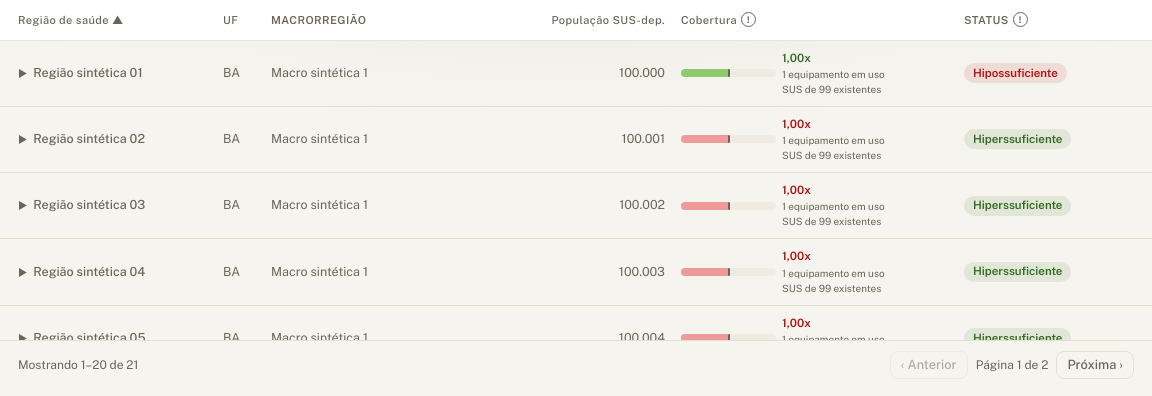
cobertura por região e município com consultas reais › mostra expansão vazio sem perder a região pai
The width and height of the screenshot is (1152, 396).
What coordinates should you click on to do the following:
click the text "Região sintética 01"
I would click on:
 (108, 73)
Its box is [0,40,217,106].
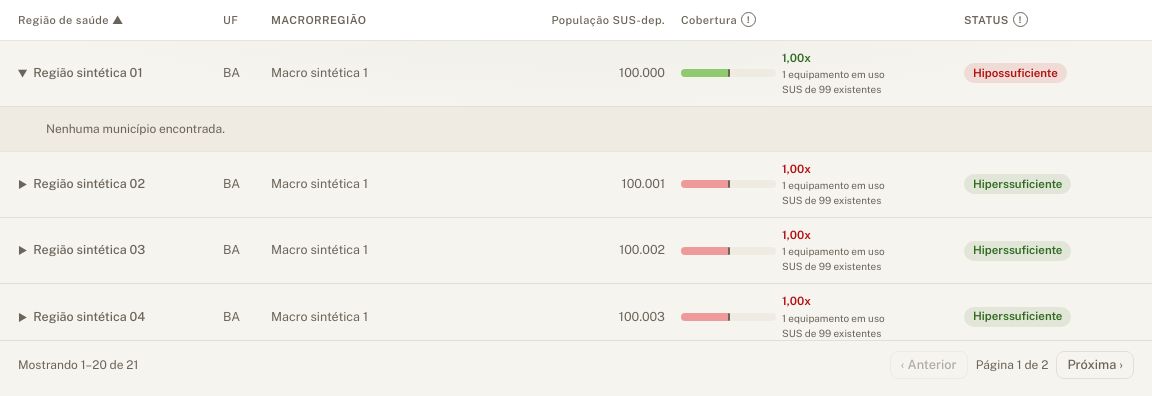
Expected: the text "Nenhuma município encontrada." is shown, [46,122,225,136]
Expected: the text "Região sintética 01" is shown 2 times
